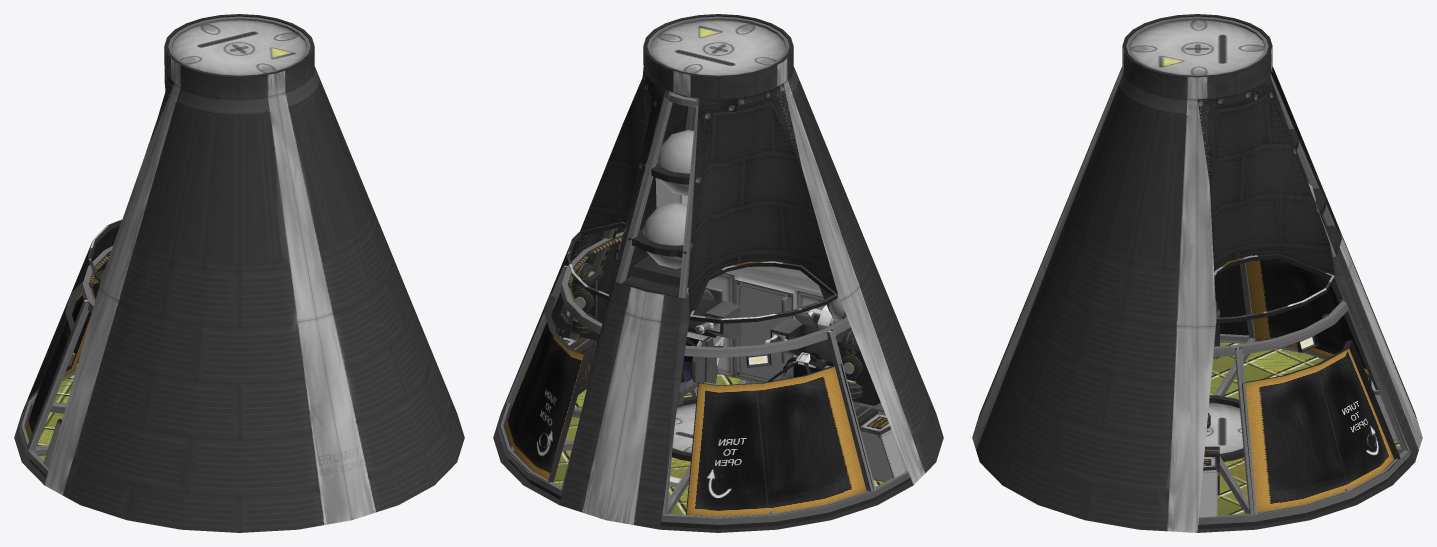
File: BackseatSpace.FBX
The picture shows the model from 3 angles, left to right: view 1: azimuth 30°, elevation 25°; view 2: azimuth 150°, elevation 25°; view 3: azimuth 270°, elevation 25°; orthographic projection.
Visible parts, largest first — view 1: MainBody001, NoseDisk, Doors, MainBody, BackSpar025, UpperSkeletalRing001, AftFoil, Tube001; view 2: MainBody001, Doors, FrontPanels001, StorageLocker, NoseDisk, MainBody, FrontPanels002, Tube001, MiddleSkeletalRing, AftFoil (×2), Seat006, RCSBox002 (+19 smaller); view 3: MainBody001, Doors, FrontPanels001, NoseDisk, AftFoil (×2), FrontPanels002, MainBody, Tube001, AftCrewPort, MiddleSkeletalRing, BackSpar023, WindowFrame (+6 smaller).
Boxes of the visible parts, <box> form: MainBody001: <box>15,14,464,532</box>; NoseDisk: <box>172,20,306,75</box>; Doors: <box>19,269,104,448</box>; MainBody: <box>14,226,119,484</box>; BackSpar025: <box>27,299,89,450</box>; UpperSkeletalRing001: <box>168,16,310,75</box>; AftFoil: <box>37,375,74,461</box>; Tube001: <box>19,363,77,475</box>; MainBody001: <box>494,14,943,532</box>; Doors: <box>498,293,873,517</box>; FrontPanels001: <box>580,68,837,315</box>; StorageLocker: <box>687,266,884,411</box>; NoseDisk: <box>651,20,785,75</box>; MainBody: <box>493,93,913,532</box>; FrontPanels002: <box>581,70,832,312</box>; Tube001: <box>498,403,909,524</box>; MiddleSkeletalRing: <box>560,232,850,357</box>; AftFoil (×2): <box>553,373,885,514</box>; Seat006: <box>677,286,724,406</box>; RCSBox002: <box>859,414,907,481</box>; MainBody001: <box>972,14,1422,532</box>; Doors: <box>1242,259,1400,514</box>; FrontPanels001: <box>1197,66,1334,275</box>; NoseDisk: <box>1130,20,1264,75</box>; AftFoil (×2): <box>1209,342,1399,515</box>; FrontPanels002: <box>1199,78,1333,274</box>; MainBody: <box>1197,72,1414,532</box>; Tube001: <box>1198,334,1410,524</box>; AftCrewPort: <box>1205,395,1244,461</box>; MiddleSkeletalRing: <box>1213,300,1348,356</box>; BackSpar023: <box>1235,347,1257,515</box>; WindowFrame: <box>1214,254,1334,323</box>.
Bounding box in the file's own units: 1.87 × 1.8 × 1.87.
